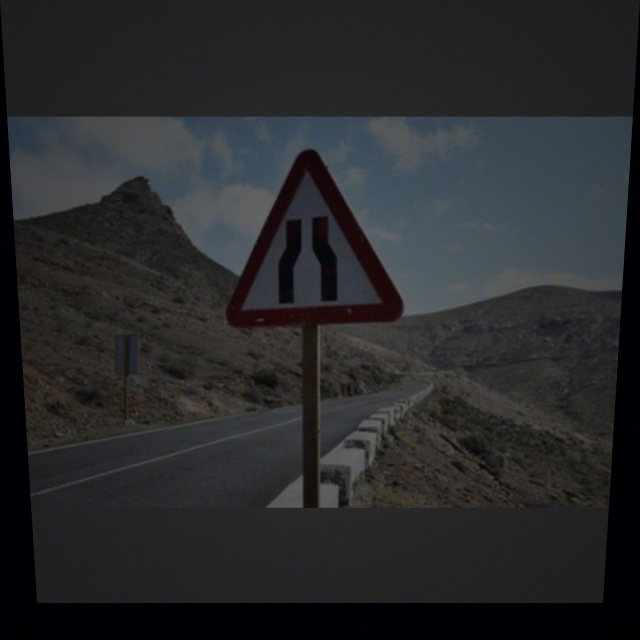Narrow_Road_Ahead: (219, 152, 406, 329)
